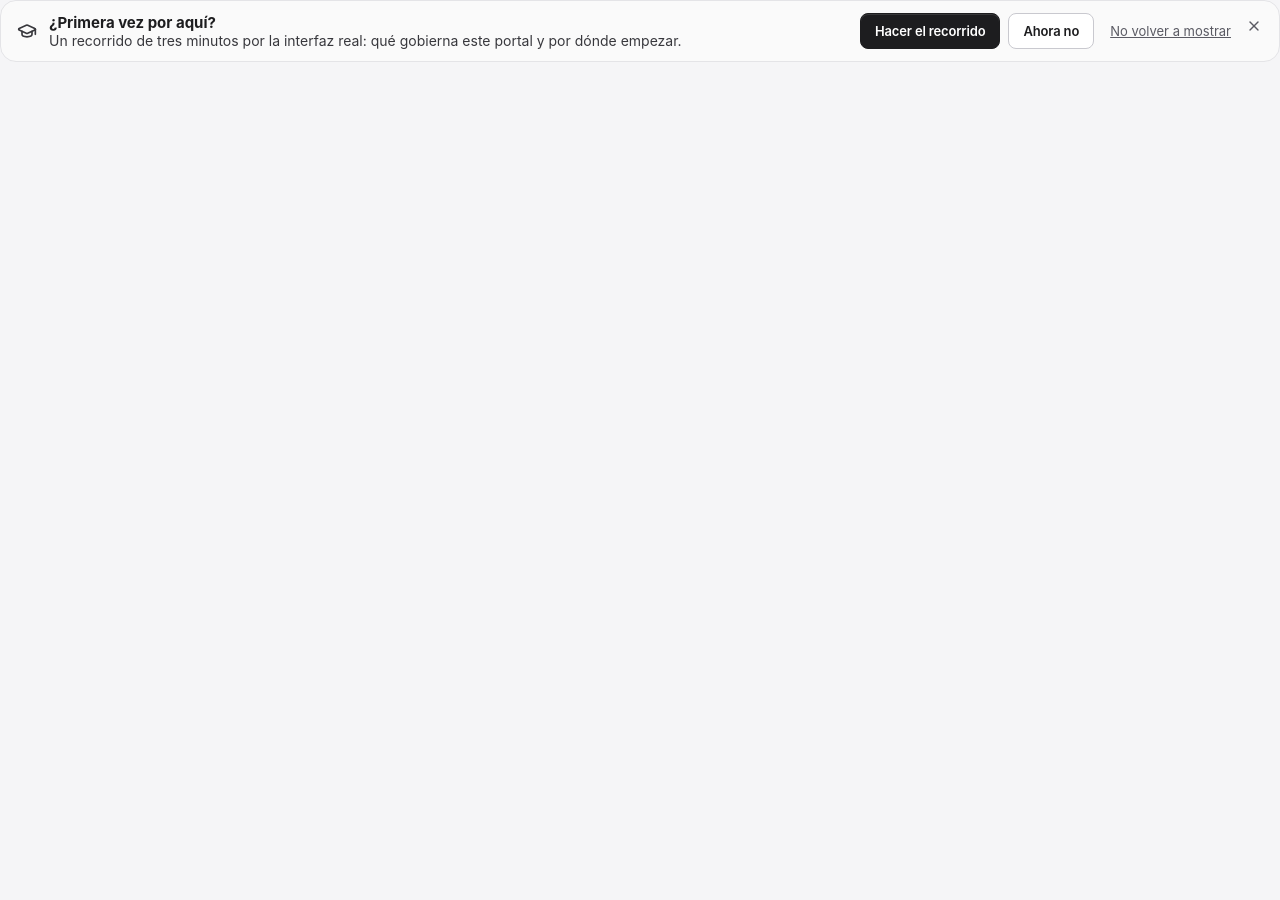
Test: invitación al recorrido introductorio › al arrancar el recorrido la invitación se aparta
The width and height of the screenshot is (1280, 900).
Click the button "Hacer el recorrido".
click(930, 31)  # box [860,13,1000,49]
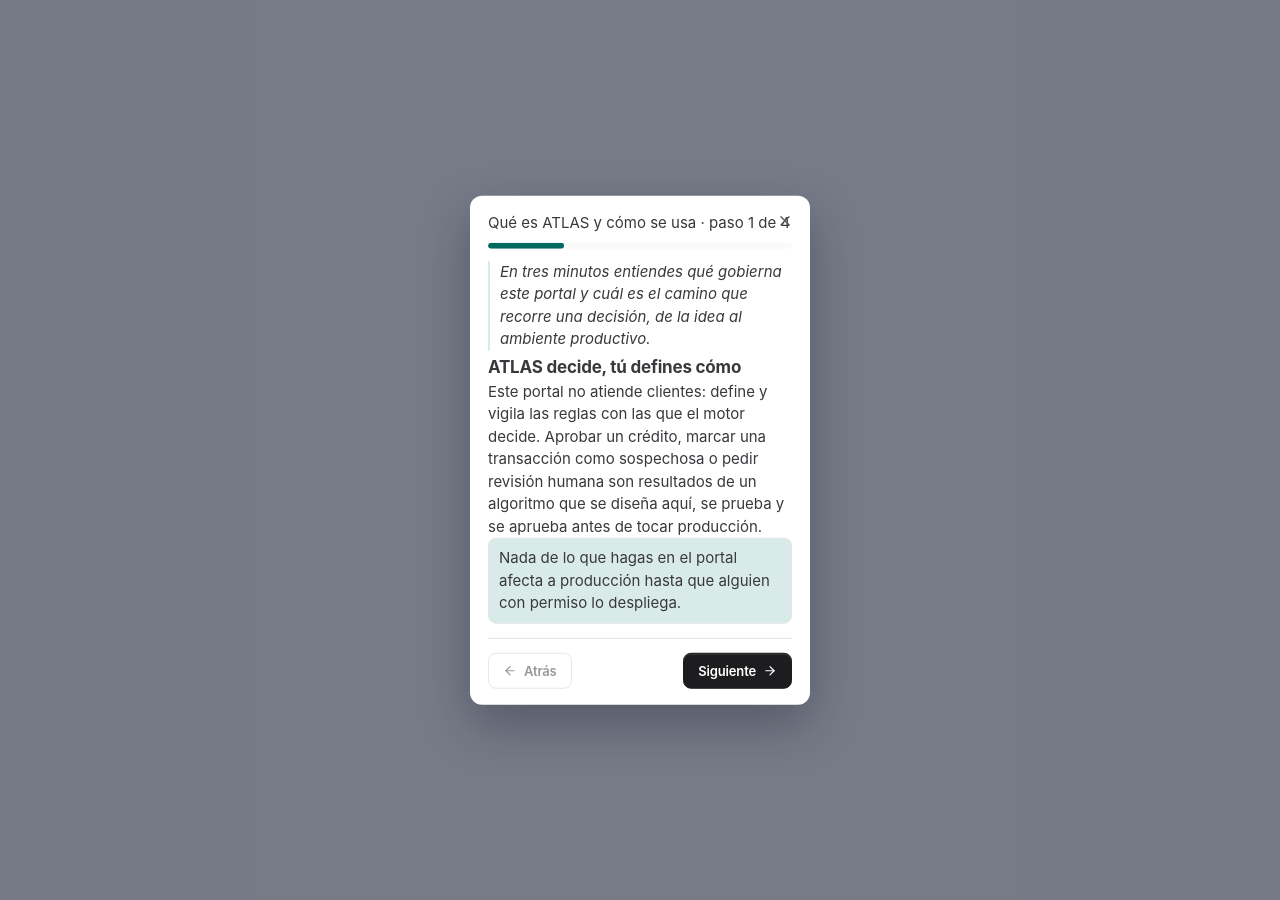
Expected: the text "¿Primera vez por aquí?" is gone
Expected: the heading "ATLAS decide, tú defines cómo" is shown, [488,356,741,376]
